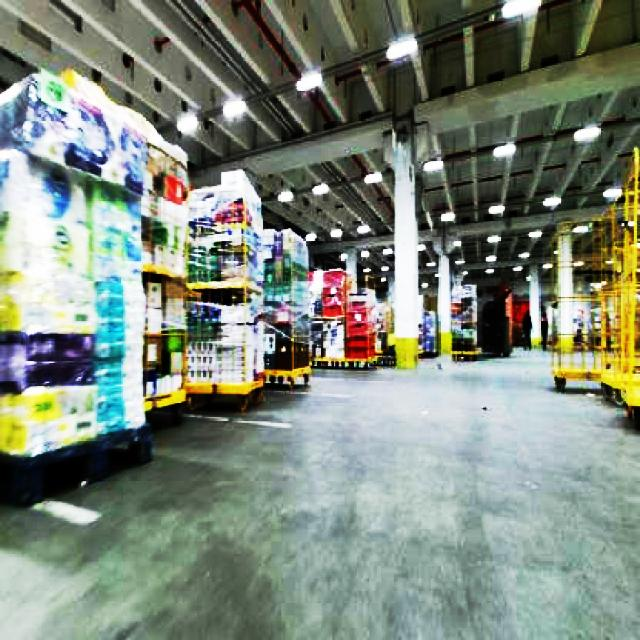ground: (0, 340, 638, 638)
pallet: (0, 68, 309, 509), (0, 69, 152, 505), (551, 143, 638, 442), (183, 183, 265, 411), (591, 142, 638, 520), (140, 138, 189, 425), (309, 268, 394, 368), (260, 226, 311, 389), (263, 335, 311, 389), (309, 354, 394, 369), (263, 366, 309, 389), (451, 338, 477, 360)
